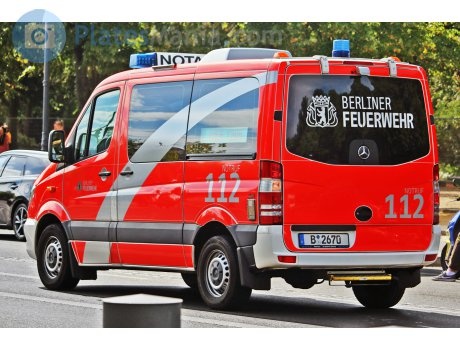License Plates: (302, 228, 347, 242)
